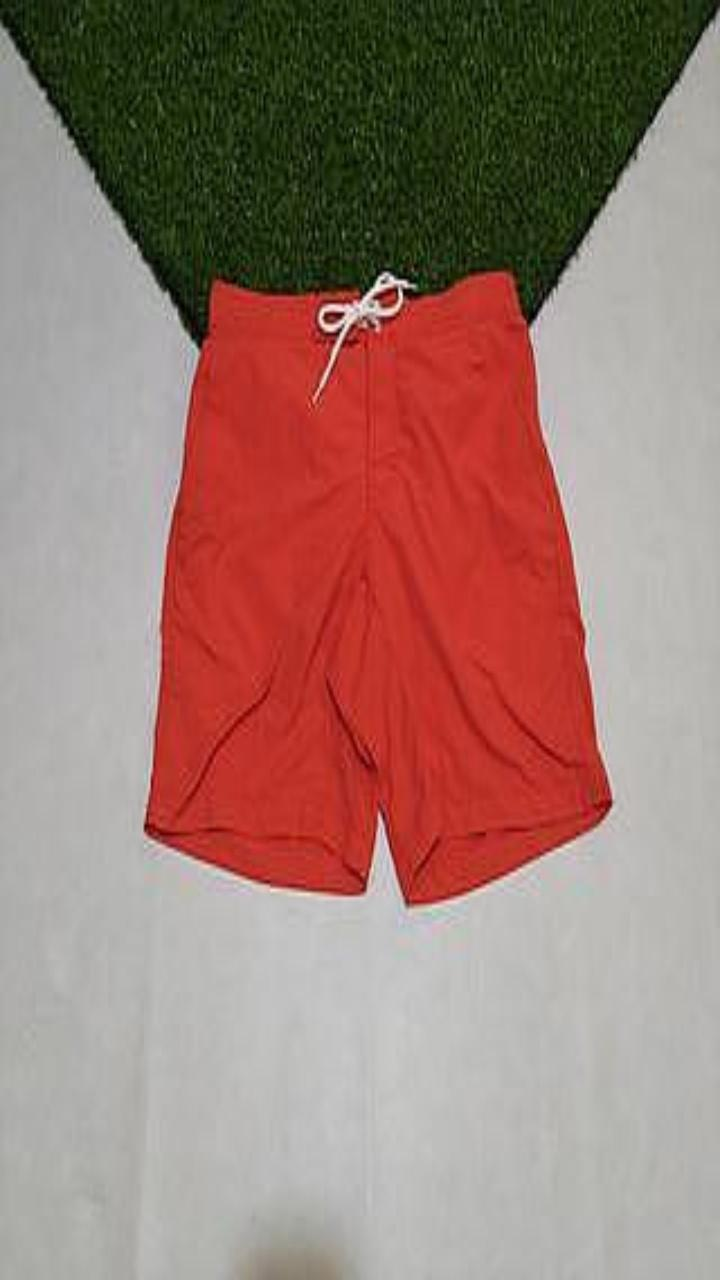Shorts: (145, 270, 611, 904)
